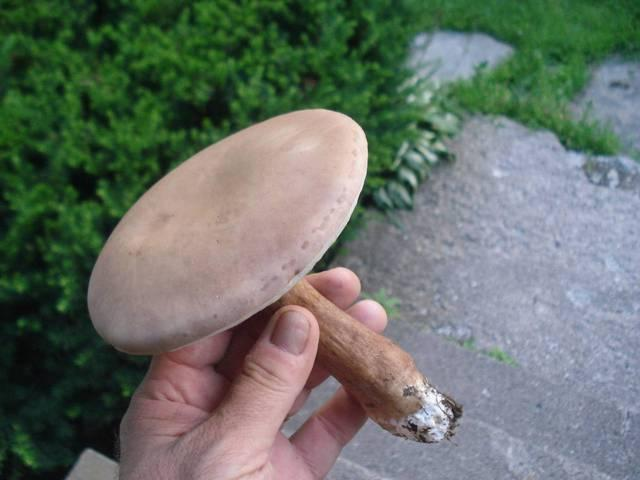Non-edible Mushroom: (85, 106, 463, 444)
